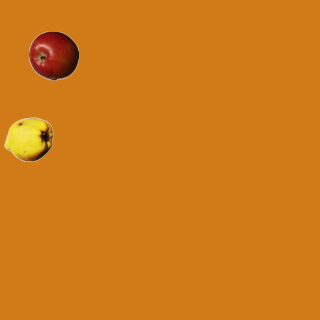Apple Braeburn: (28, 30, 78, 80)
Quince: (3, 114, 53, 164)
